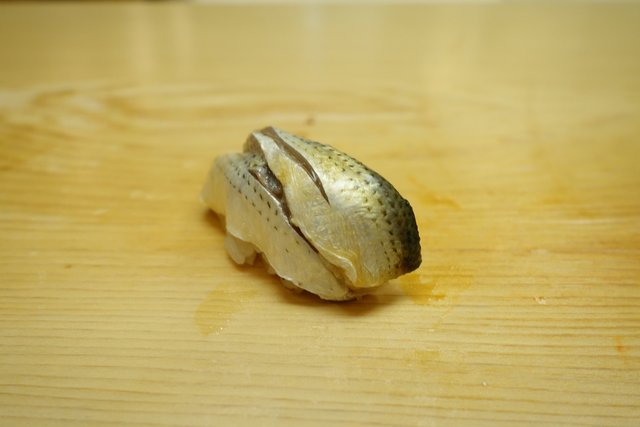spotted-shad: (200, 121, 429, 311)
